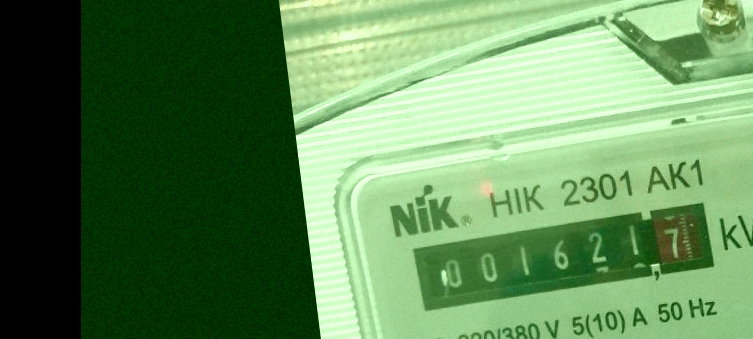0: (476, 247, 502, 286), (442, 253, 466, 289)
1: (625, 219, 643, 257), (516, 241, 534, 278)
2: (585, 227, 611, 265)
6: (549, 236, 572, 272)
7: (661, 223, 685, 261)
screen: (407, 198, 723, 316)
